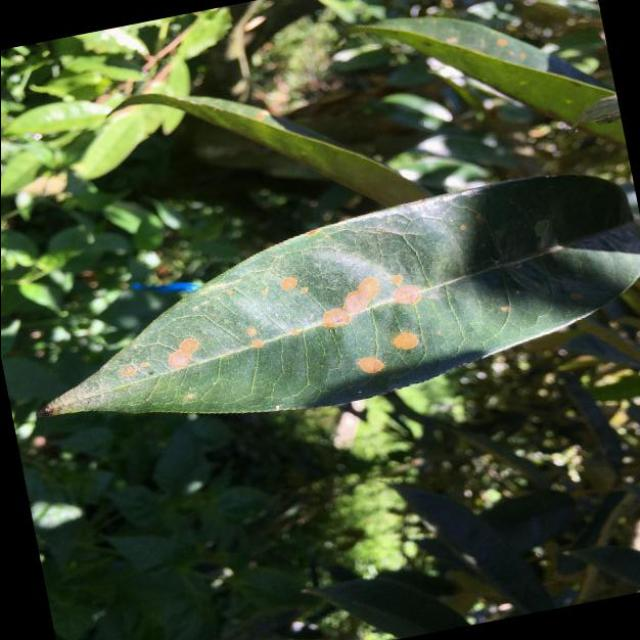Algal Leaf Spot: (7, 146, 640, 468)
